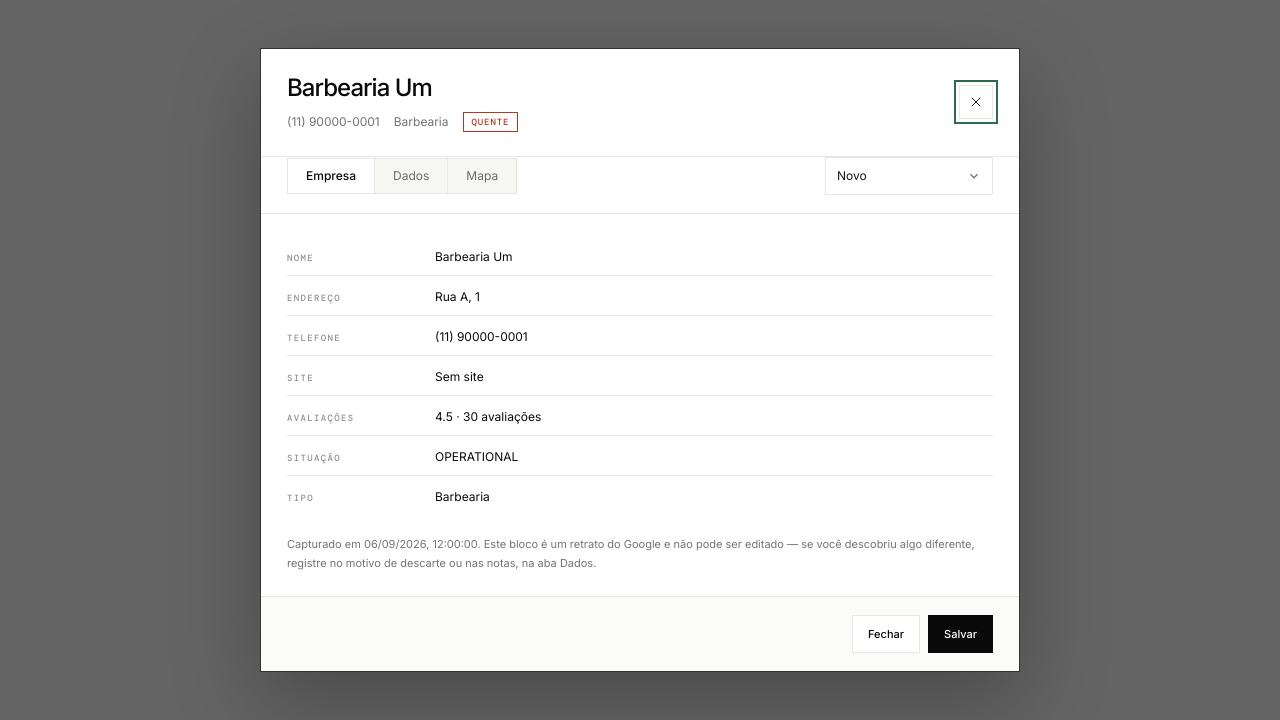
Test case: LeadModal › troca para a aba Dados ao clicar
Click the tab "Dados".
click(411, 176)  # box [374,159,447,193]
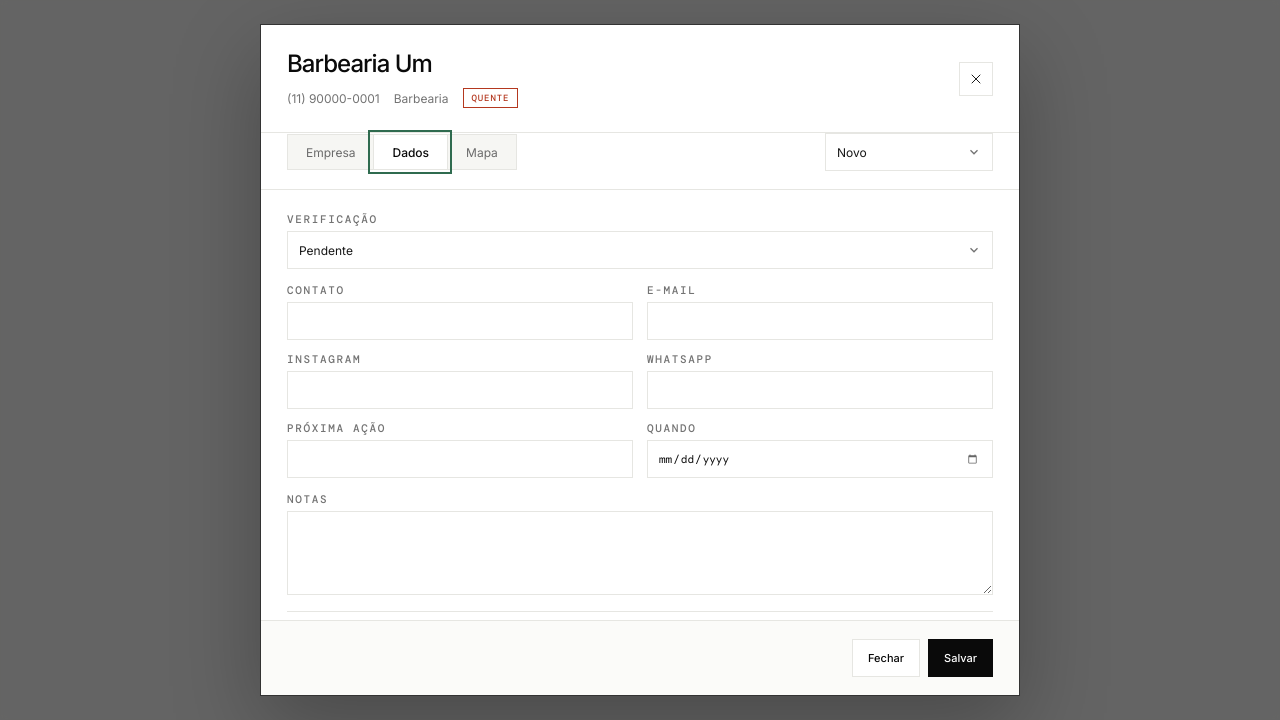
Check: the field labelled "Contato" is shown, box [287,302,633,340]
